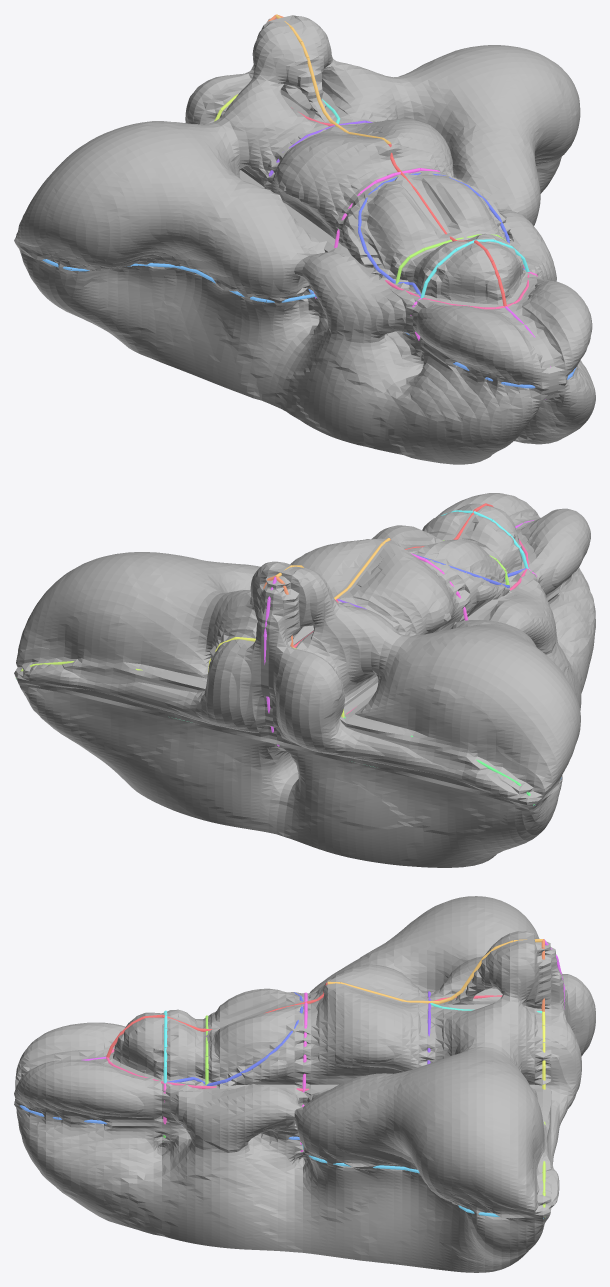
Rendered from t2f_fighter.gltf.
3 views of the same model, one above another, from view 1: azimuth 30°, elevation 25°; view 2: azimuth 150°, elevation 25°; view 3: azimuth 270°, elevation 25° (orthographic). The views are drawn at different scales.
Bounding box in the file's own units: 0.7223 × 0.3395 × 0.7093.
